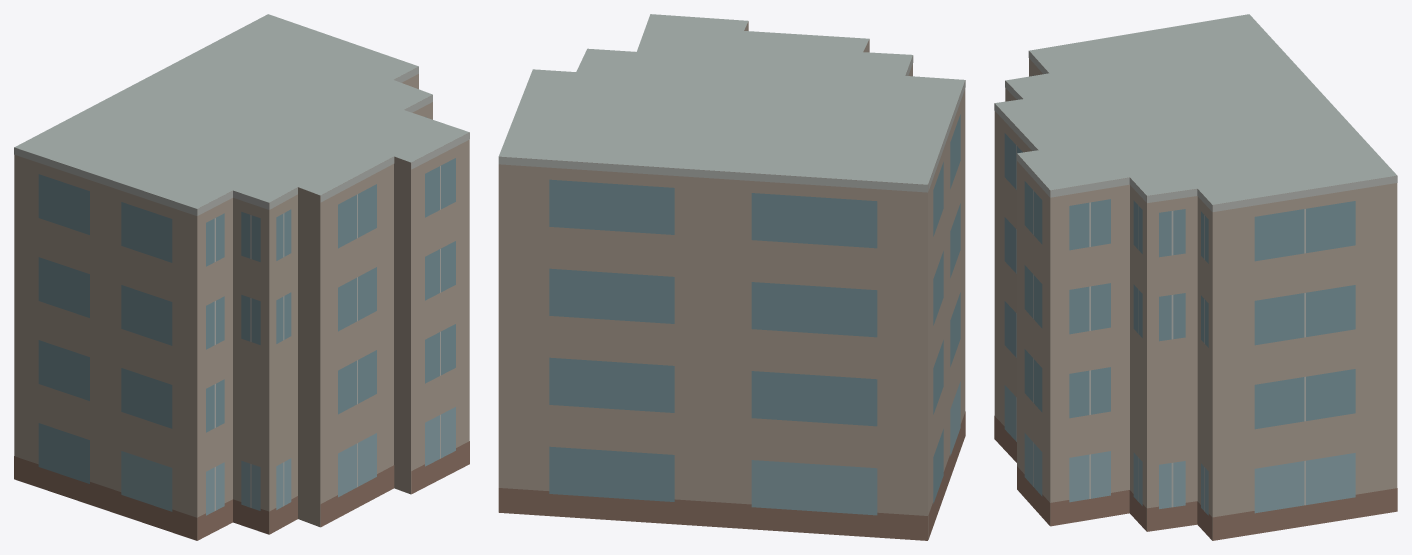
File: survey-upis-32649146.glb
3 views of the same model, side by side, from view 1: azimuth 30°, elevation 25°; view 2: azimuth 150°, elevation 25°; view 3: azimuth 270°, elevation 25° (orthographic). The views are drawn at different scales.
Parts seen in each view (by area): view 1: survey-upis-32649146.tmp; view 2: survey-upis-32649146.tmp; view 3: survey-upis-32649146.tmp.
Part boxes in pixels (box(x1,y1,x2,y2)): survey-upis-32649146.tmp: box(14, 14, 469, 540); survey-upis-32649146.tmp: box(498, 14, 965, 540); survey-upis-32649146.tmp: box(994, 14, 1397, 540).
Bounding box in the file's own units: 13.66 × 11.2 × 12.19.
